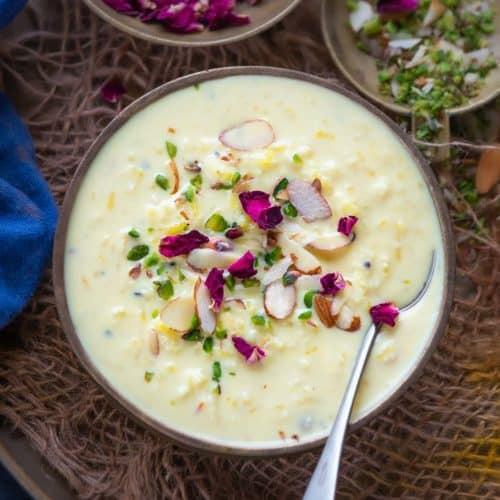Kheer: (61, 74, 448, 447)
